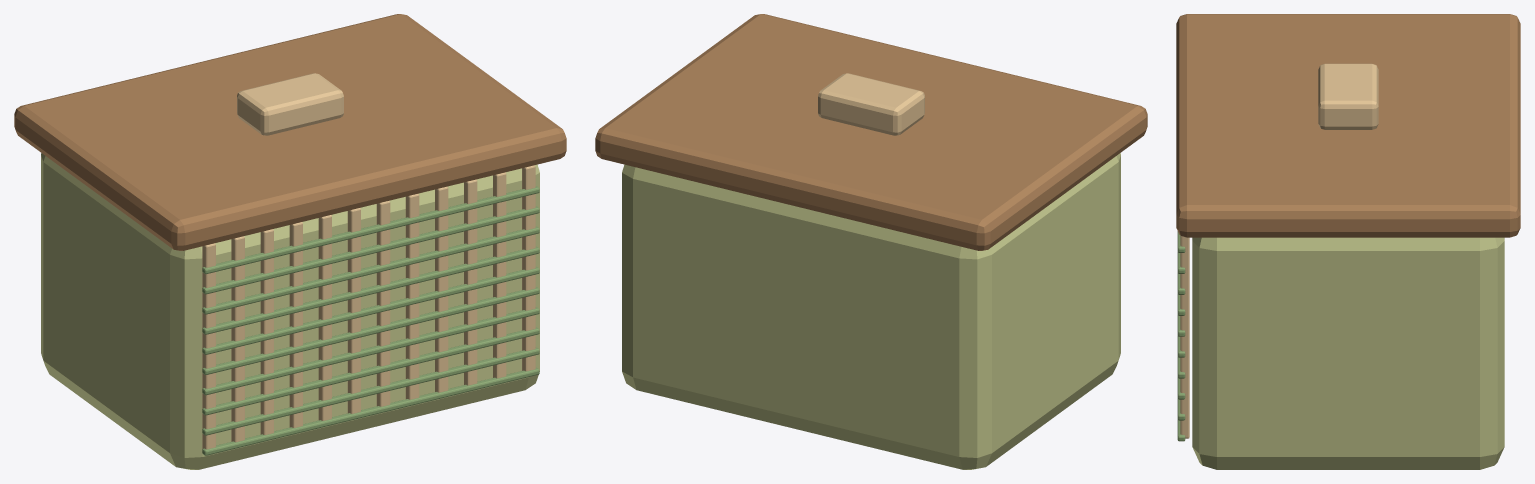
File: bamboo_takezaiku_box.glb
The picture shows the model from 3 angles, left to right: view 1: azimuth 30°, elevation 25°; view 2: azimuth 150°, elevation 25°; view 3: azimuth 270°, elevation 25°; orthographic projection. The views are drawn at different scales.
Visible parts, largest first — view 1: Fitted bamboo case lid, Woven rectangular bamboo box, Lid wooden knob, Horizontal woven bands.003, Horizontal woven bands.001, Horizontal woven bands.009, Horizontal woven bands.004, Horizontal woven bands.006, Horizontal woven bands.007, Horizontal woven bands.008, Horizontal woven bands, Horizontal woven bands.002 (+13 smaller); view 2: Woven rectangular bamboo box, Fitted bamboo case lid, Lid wooden knob; view 3: Fitted bamboo case lid, Woven rectangular bamboo box, Lid wooden knob, Vertical woven faces.011.
Boxes of the visible parts, left/top/right/bottom form: Fitted bamboo case lid: left=14, top=14, right=566, bottom=250; Woven rectangular bamboo box: left=41, top=153, right=539, bottom=469; Lid wooden knob: left=237, top=73, right=343, bottom=135; Horizontal woven bands.003: left=202, top=307, right=539, bottom=395; Horizontal woven bands.001: left=202, top=347, right=539, bottom=435; Horizontal woven bands.009: left=202, top=186, right=539, bottom=274; Horizontal woven bands.004: left=202, top=287, right=539, bottom=374; Horizontal woven bands.006: left=202, top=246, right=539, bottom=334; Horizontal woven bands.007: left=202, top=226, right=539, bottom=314; Horizontal woven bands.008: left=202, top=206, right=539, bottom=294; Horizontal woven bands: left=202, top=367, right=539, bottom=455; Horizontal woven bands.002: left=202, top=327, right=539, bottom=415; Woven rectangular bamboo box: left=622, top=153, right=1120, bottom=469; Fitted bamboo case lid: left=595, top=14, right=1147, bottom=250; Lid wooden knob: left=818, top=73, right=924, bottom=135; Fitted bamboo case lid: left=1176, top=14, right=1520, bottom=237; Woven rectangular bamboo box: left=1192, top=237, right=1504, bottom=469; Lid wooden knob: left=1318, top=63, right=1378, bottom=129; Vertical woven faces.011: left=1180, top=235, right=1189, bottom=438.
Bounding box in the file's own units: 1.95 × 1.39 × 1.42.
